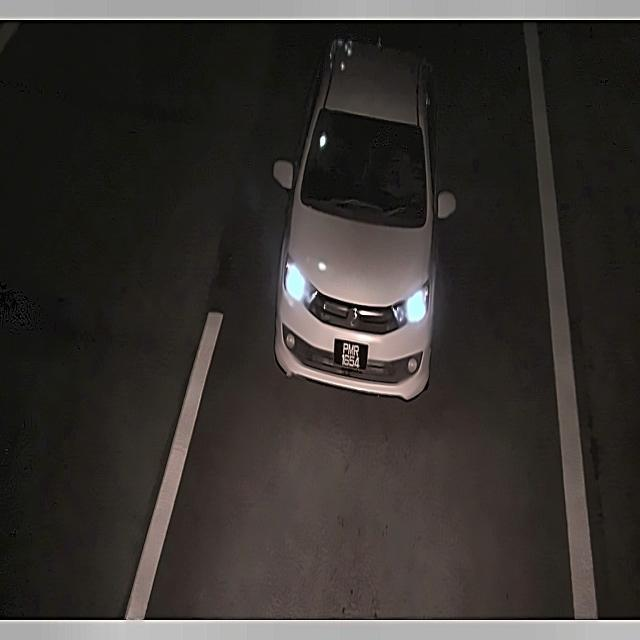car: (334, 334, 371, 381)
